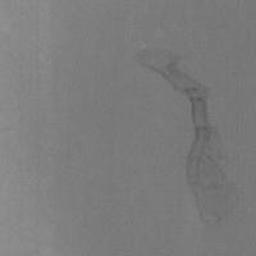Water spot: (133, 47, 241, 233)
